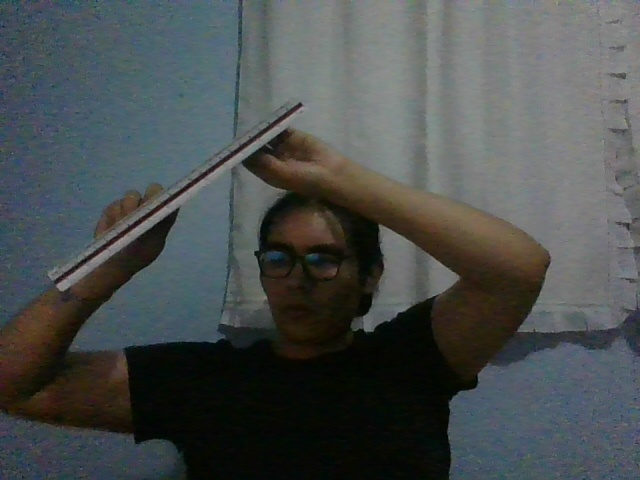regla: (46, 98, 306, 293)
